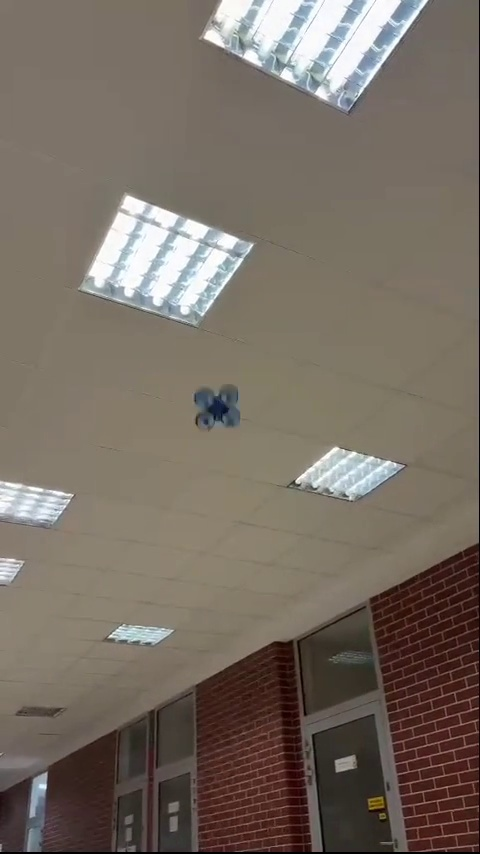drone: (189, 382, 240, 433)
